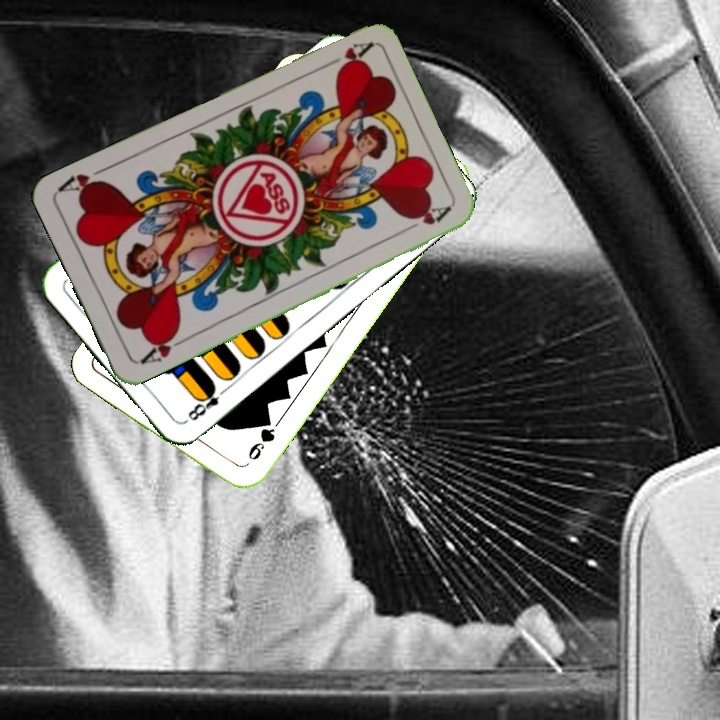E8: (181, 380, 231, 425)
G9: (243, 413, 278, 463)
HA: (136, 327, 191, 367), (317, 38, 374, 76)
